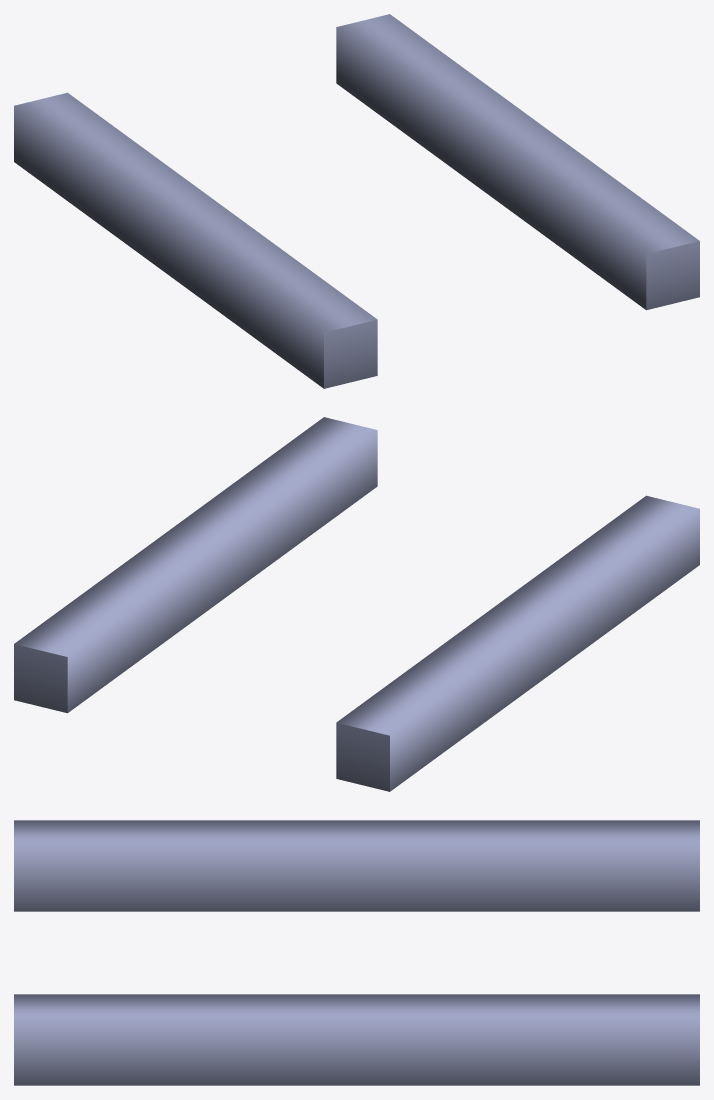
File: spline-track.glb
3 views of the same model, one above another, from view 1: azimuth 30°, elevation 25°; view 2: azimuth 150°, elevation 25°; view 3: azimuth 270°, elevation 25° (orthographic). The views are drawn at different scales.
Parts seen in each view (by area): view 1: spline-track; view 2: spline-track; view 3: spline-track.
Part boxes in pixels (x1,y1,x2,y2): spline-track: [14, 14, 699, 388]; spline-track: [14, 417, 699, 791]; spline-track: [14, 820, 699, 1085].
Size of the model in its own units: 0.7 by 0.1 by 1.
